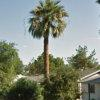Palm tree: (25, 1, 71, 91)
